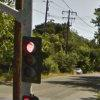Traffic light: (15, 27, 47, 87)
